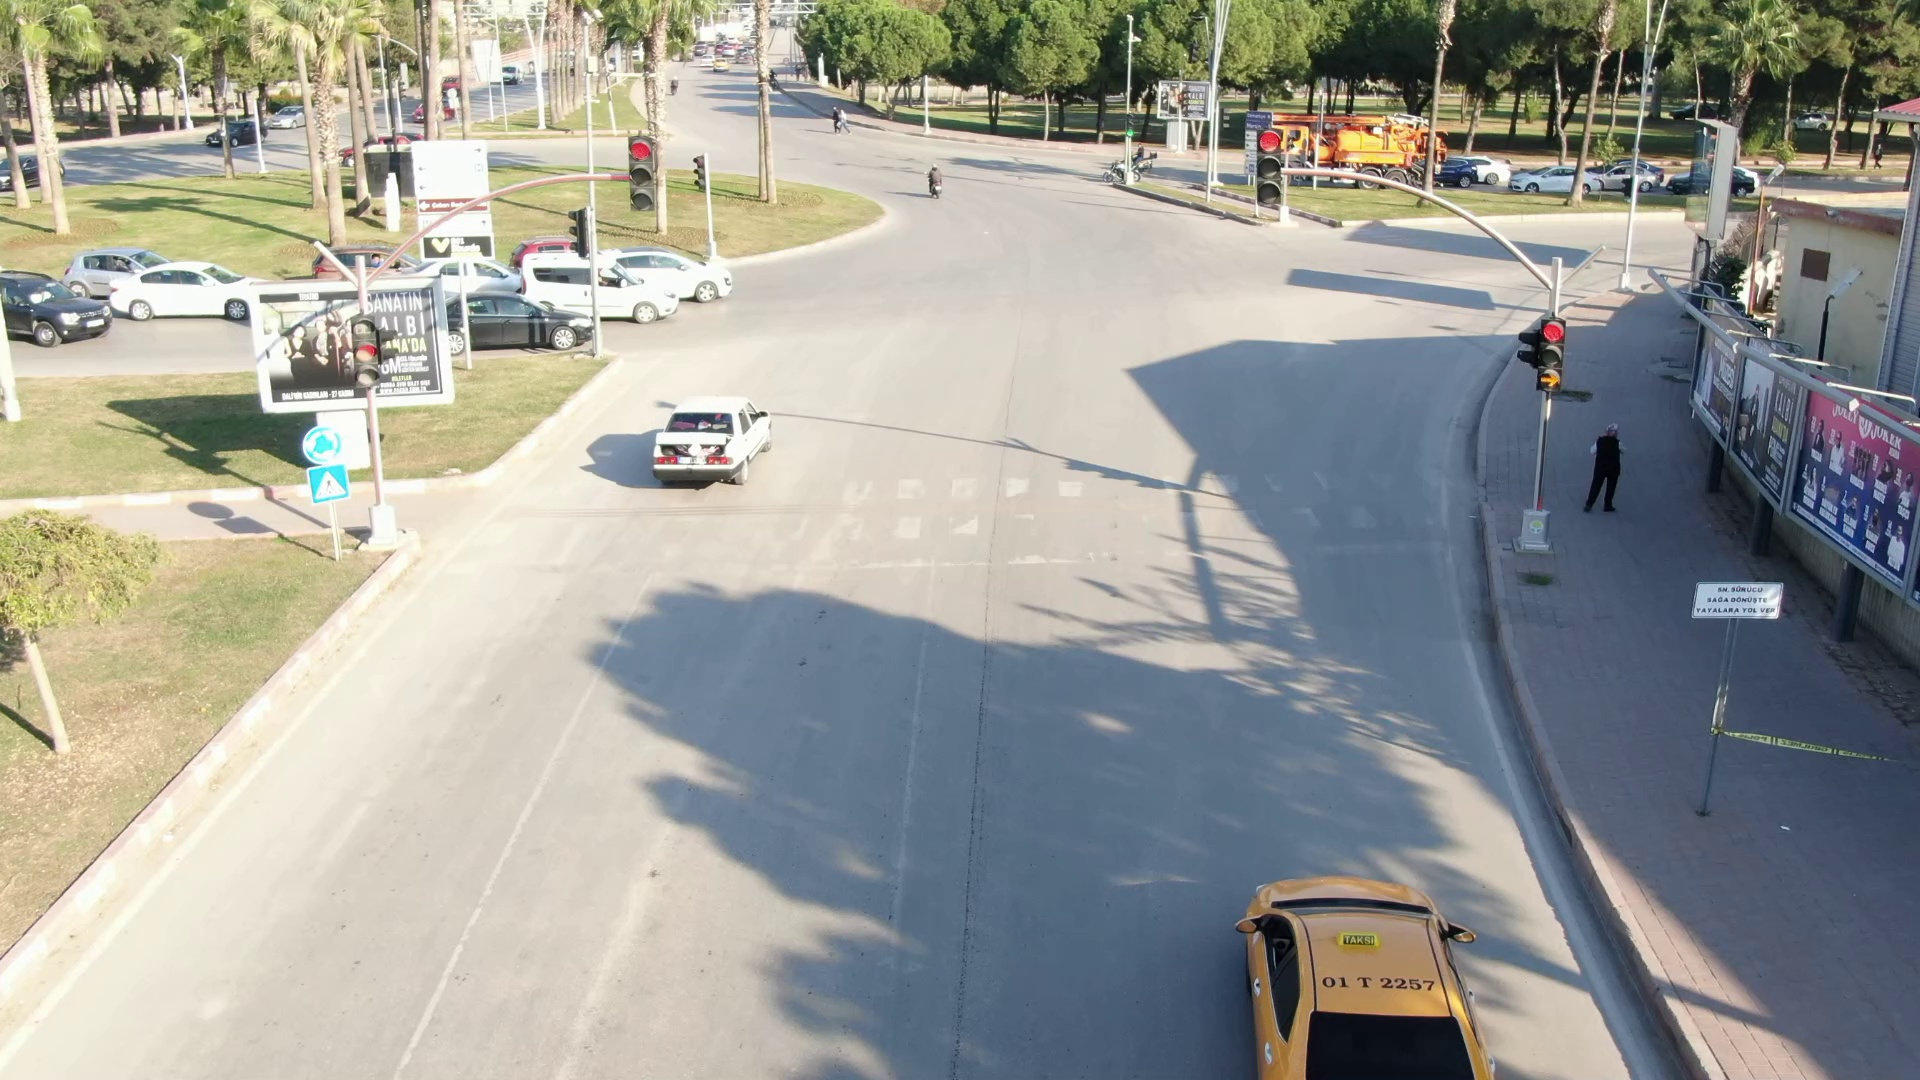car: (1200, 865, 1522, 1080), (645, 392, 786, 494), (437, 280, 606, 357), (529, 243, 700, 317), (592, 229, 749, 300), (1, 259, 119, 343)
person: (1584, 410, 1631, 525), (915, 159, 949, 202)
